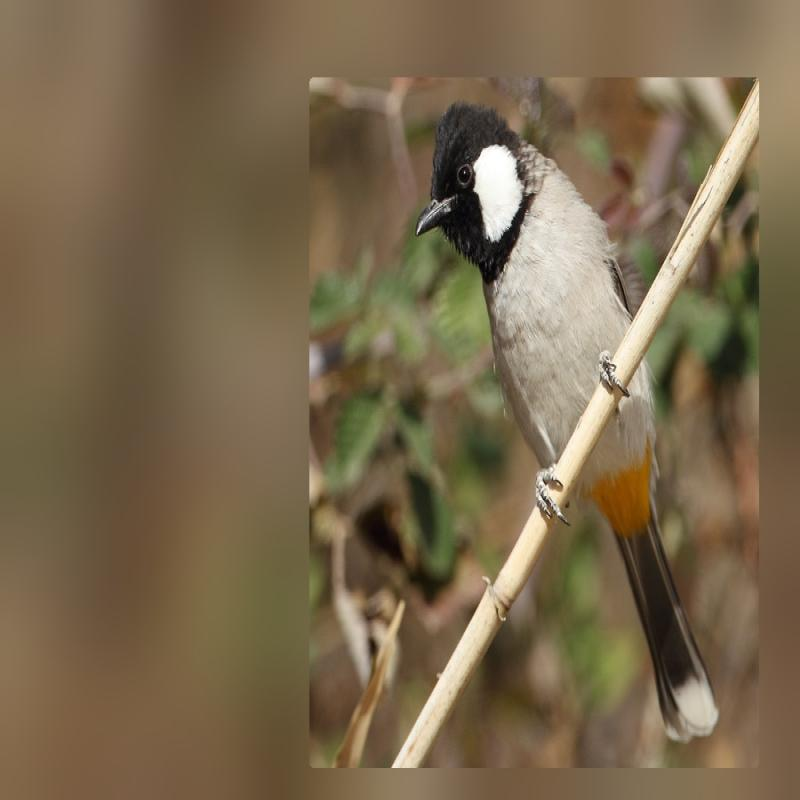white-eared bulbul: (400, 94, 726, 748)
